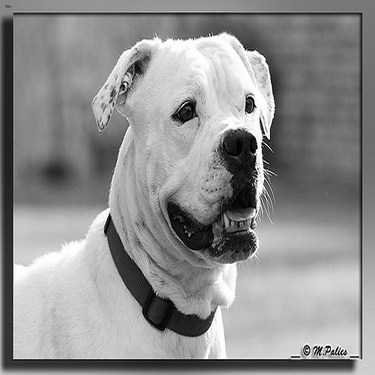dog: (22, 27, 282, 356)
